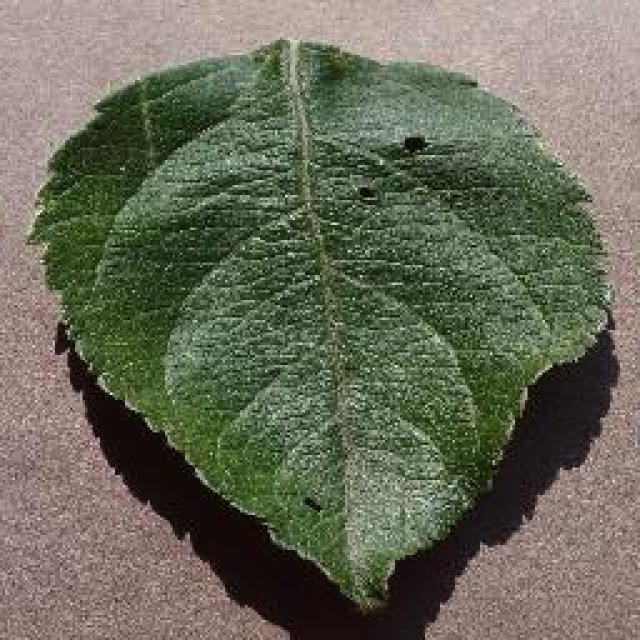Apple___healthy: (23, 34, 615, 621)
